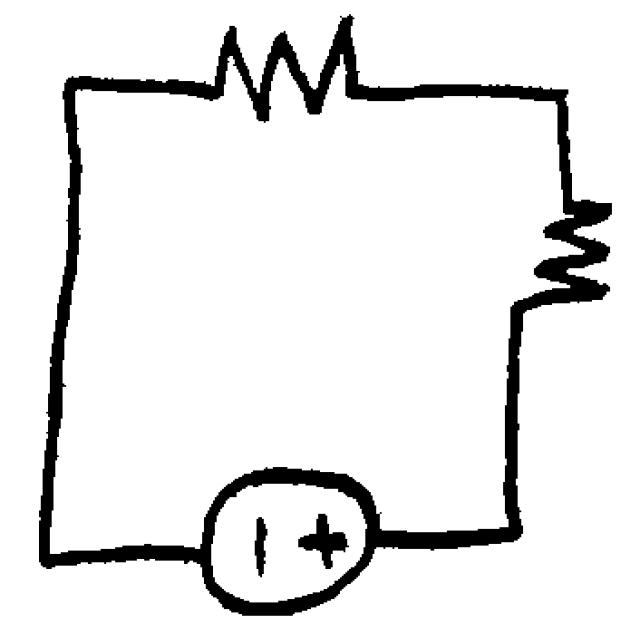dc: (181, 450, 392, 625)
resistor: (207, 6, 372, 131), (500, 178, 623, 319)
